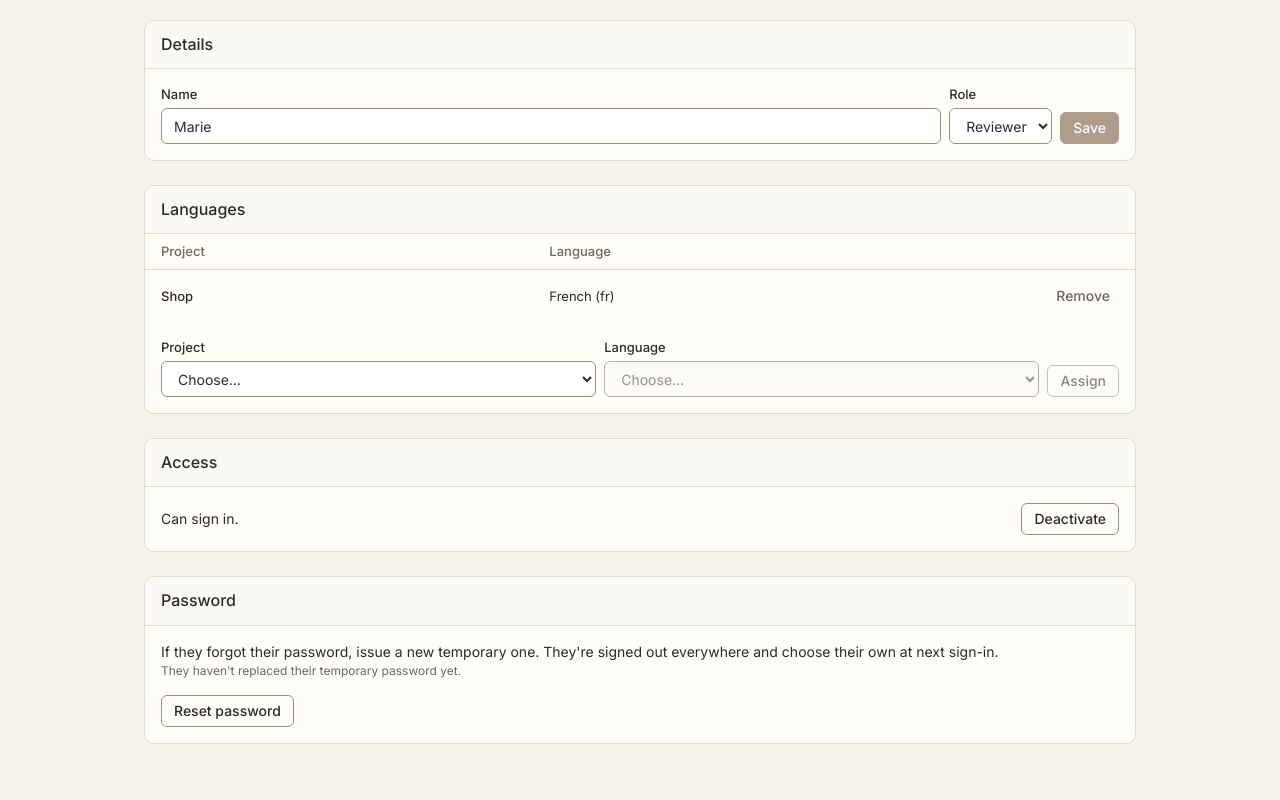
it: people administration › resets a password after confirmation and shows the new one once
This screenshot has width=1280, height=800.
(page scrolled)
Click the button "Reset password" at (227,711), box x1=161 y1=695 x2=294 y2=727
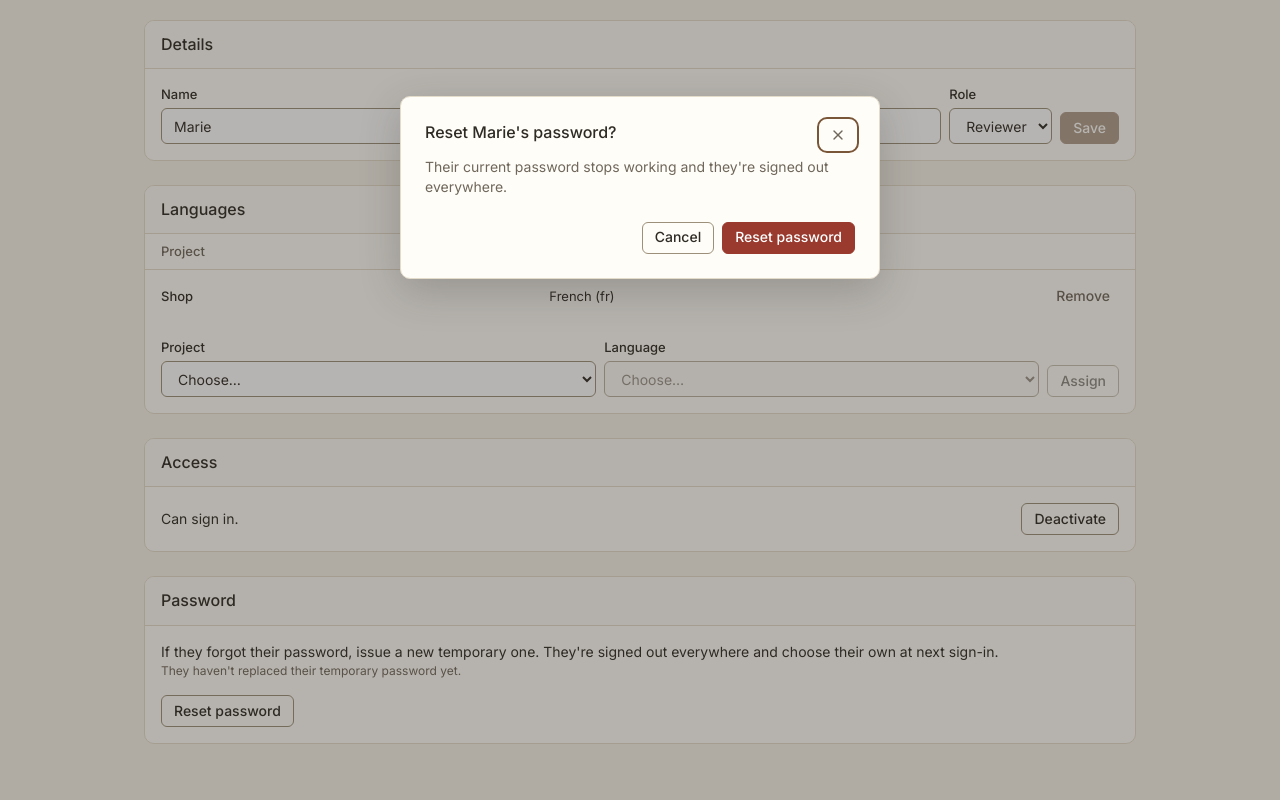
Click the button "Reset password" at (789,238), box x1=722 y1=222 x2=855 y2=254
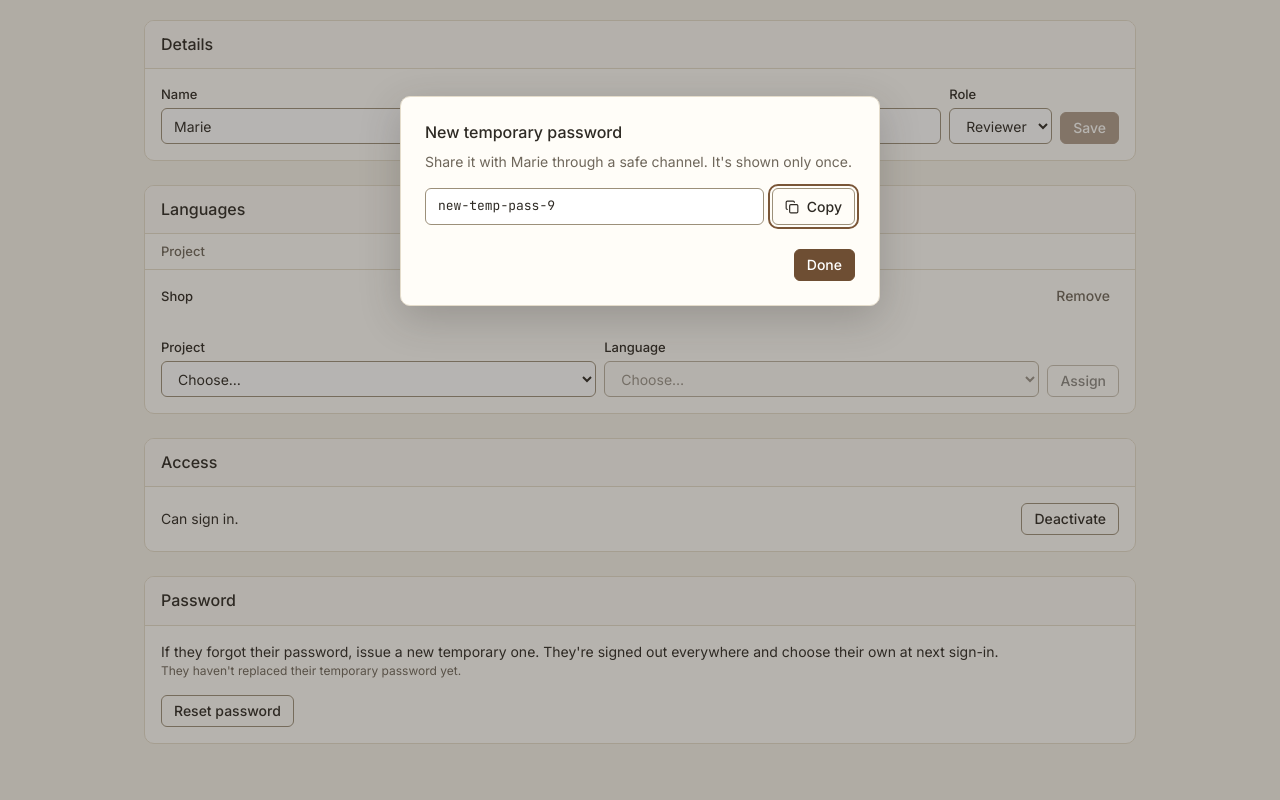
expect the text named "Temporary password" reads "new-temp-pass-9": met, box x1=438 y1=198 x2=555 y2=214
